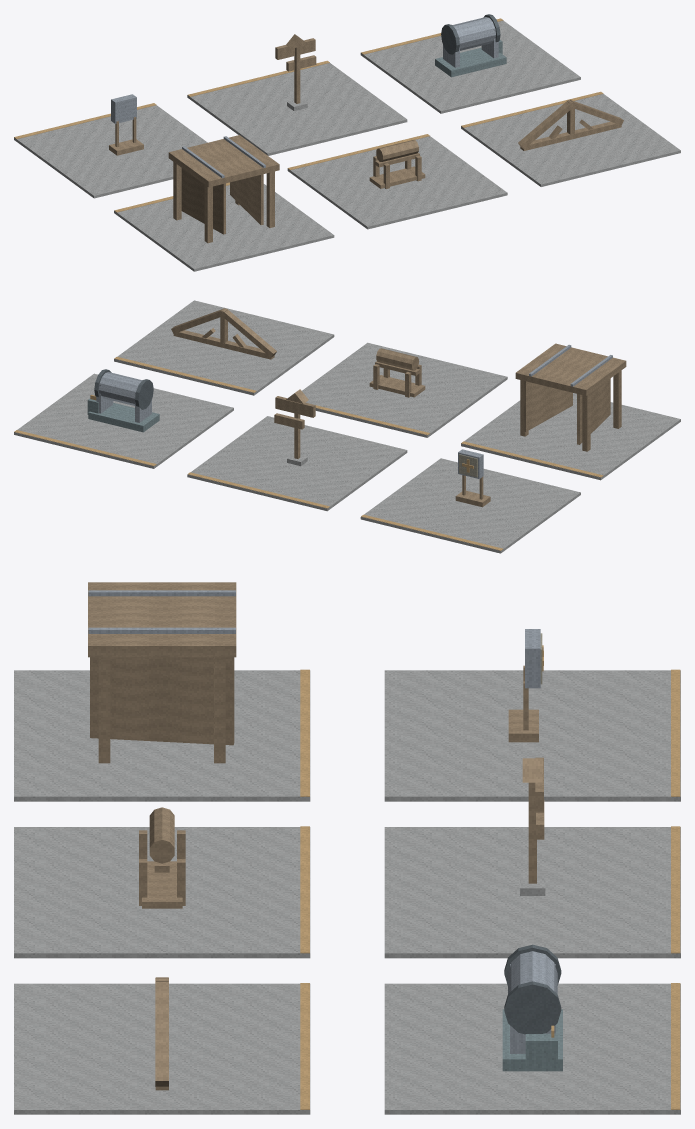
Rendered from level_blockout_kit_wld_01_p03.glb.
3 renders of one model, top to bottom at view 1: azimuth 30°, elevation 25°; view 2: azimuth 150°, elevation 25°; view 3: azimuth 270°, elevation 25°, orthographic. The views are drawn at different scales.
Visible parts, largest first — view 1: level_blockout_kit_wld_01_p03; view 2: level_blockout_kit_wld_01_p03; view 3: level_blockout_kit_wld_01_p03.
Part boxes in pixels (x1,y1,x2,y2): level_blockout_kit_wld_01_p03: [14, 14, 680, 271]; level_blockout_kit_wld_01_p03: [14, 300, 680, 553]; level_blockout_kit_wld_01_p03: [14, 582, 680, 1114].
Bounding box in the file's own units: 19.65 × 2.85 × 12.6.
Materials: 7 (7 with a texture image).
